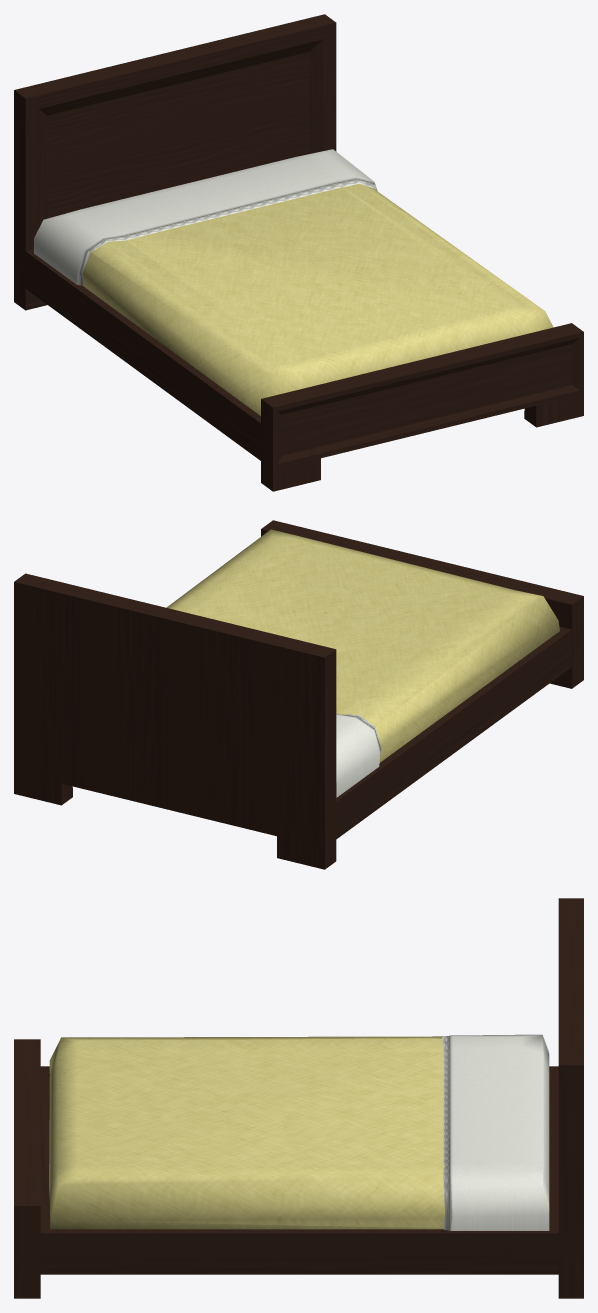
Rendered from Bed_N.FBX.
3 views of the same model, one above another, from view 1: azimuth 30°, elevation 25°; view 2: azimuth 150°, elevation 25°; view 3: azimuth 270°, elevation 25° (orthographic). The views are drawn at different scales.
Visible parts, largest first — view 1: Bed; view 2: Bed; view 3: Bed.
Boxes of the visible parts, x1,y1,x2,y2 form: Bed: [14, 14, 583, 491]; Bed: [14, 520, 583, 869]; Bed: [14, 898, 583, 1298].
Size of the model in its own units: 397 by 259 by 573.
